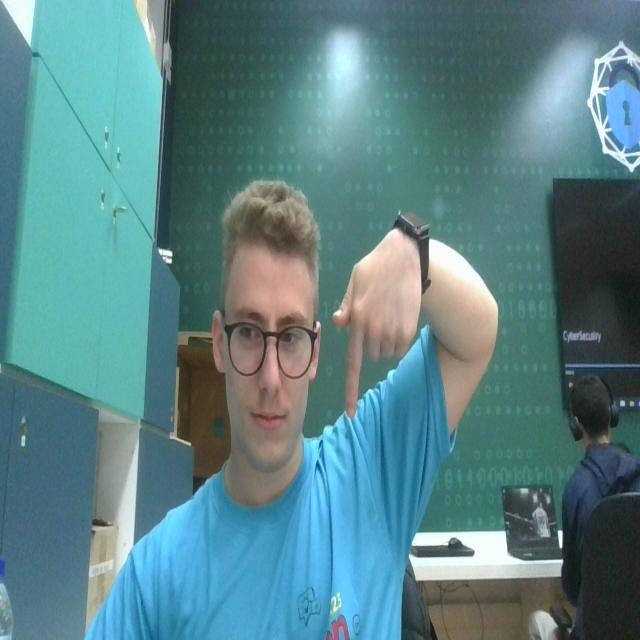Q: (334, 224, 435, 436)
